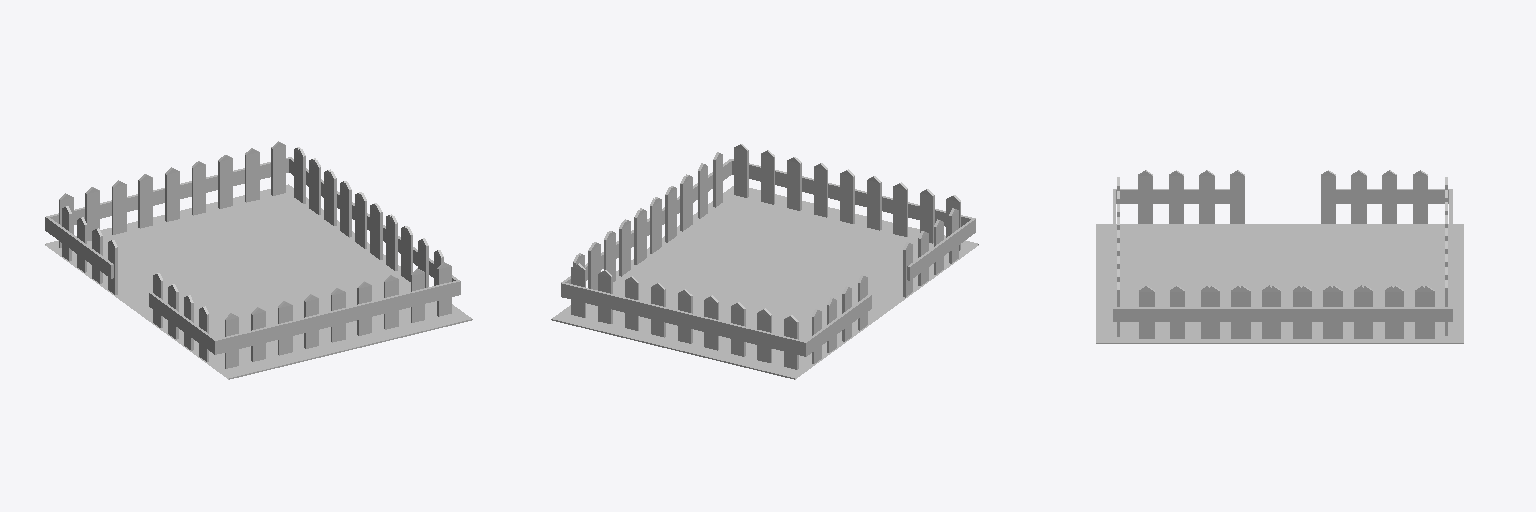
File: fence.obj
The picture shows the model from 3 angles: view 1: azimuth 30°, elevation 25°; view 2: azimuth 150°, elevation 25°; view 3: azimuth 270°, elevation 25°; orthographic projection.
Parts seen in each view (by area): view 1: Assignment2:Bonus_bonus_png; view 2: Assignment2:Bonus_bonus_png; view 3: Assignment2:Bonus_bonus_png.
Boxes of the visible parts, x1,y1,x2,y2 form: Assignment2:Bonus_bonus_png: [45, 141, 472, 379]; Assignment2:Bonus_bonus_png: [551, 144, 978, 379]; Assignment2:Bonus_bonus_png: [1096, 170, 1463, 343].
Size of the model in its own units: 18.76 by 3.95 by 24.